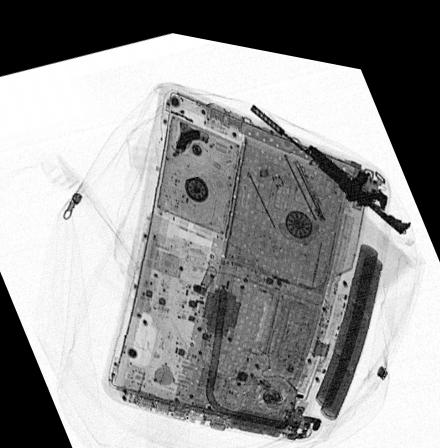Gun: (250, 91, 415, 220)
